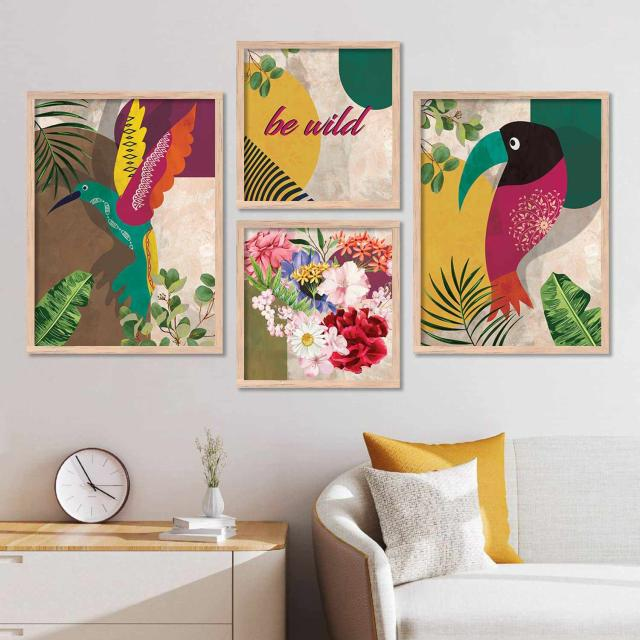painting: (27, 90, 224, 354), (415, 91, 612, 355), (236, 40, 401, 209), (237, 222, 402, 391)
